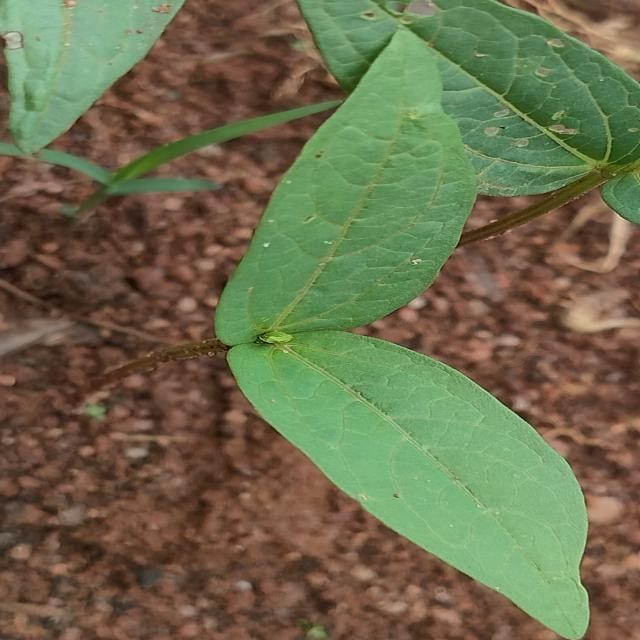Black gram_healthy: (222, 329, 590, 640), (222, 20, 460, 358)
